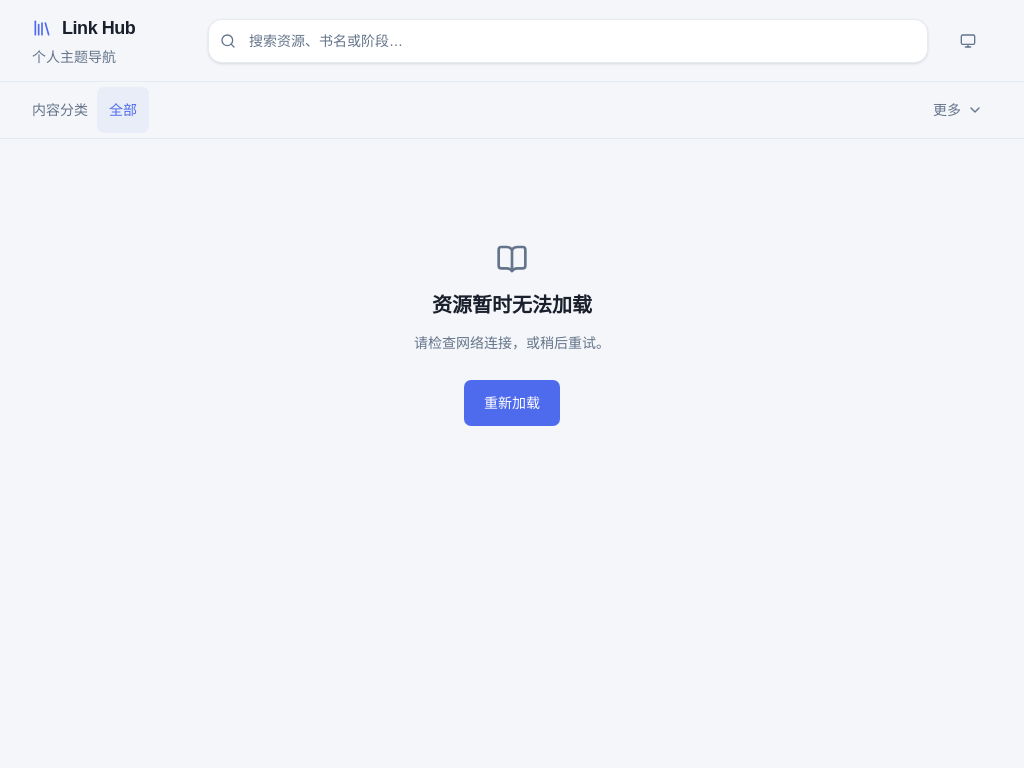
页面组装 › 失败可重试，恢复后按主题展示内容
Click the button "重新加载": click(512, 403) x1=463 y1=379 x2=561 y2=427
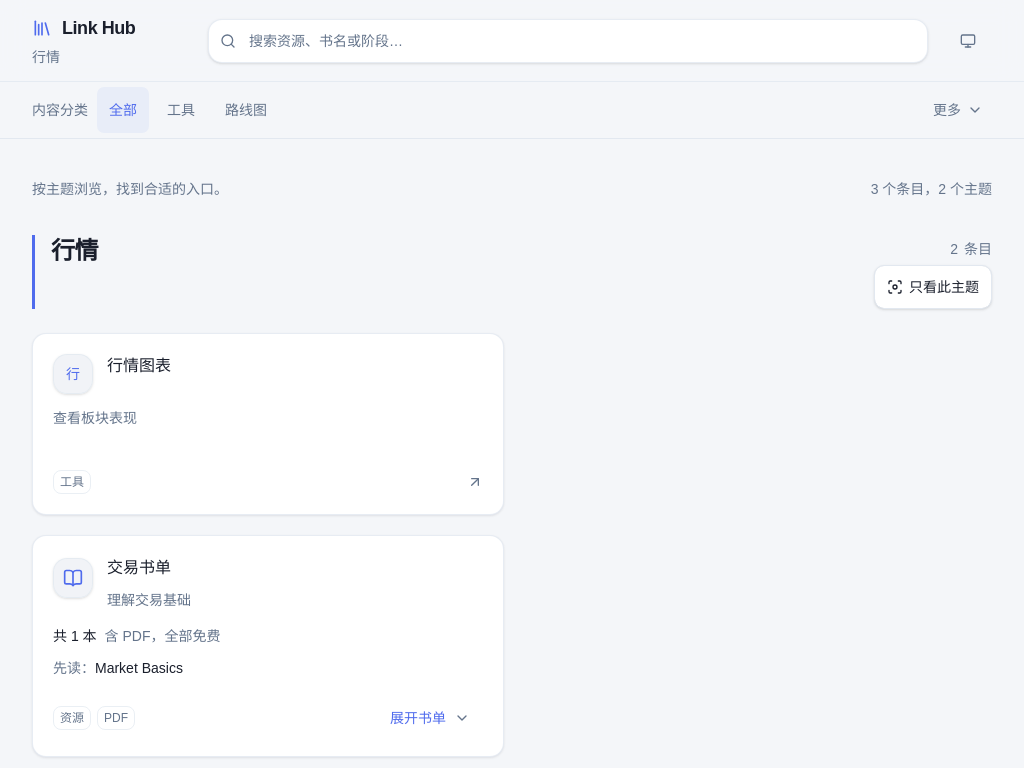
Check: the heading "行情" is shown, box x1=51 y1=235 x2=98 y2=267
